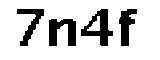4: (80, 8, 115, 51)
7: (12, 6, 45, 49)
f: (117, 7, 143, 50)
n: (46, 16, 80, 52)
